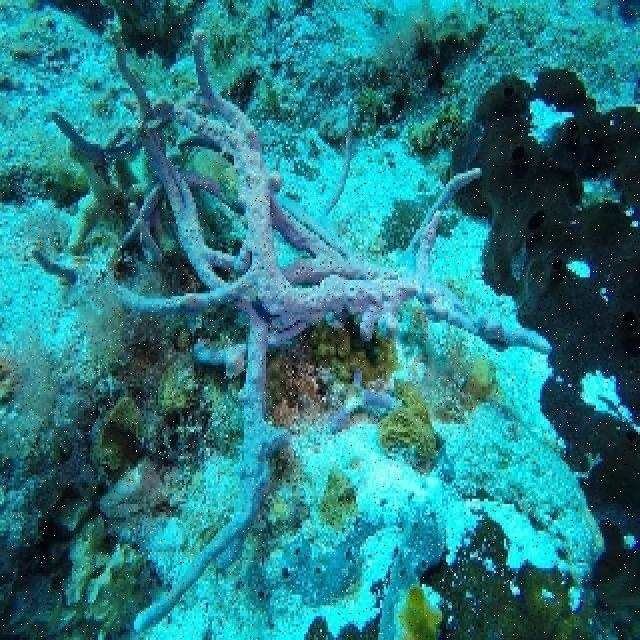reefs: (34, 15, 552, 635), (416, 67, 638, 638)
